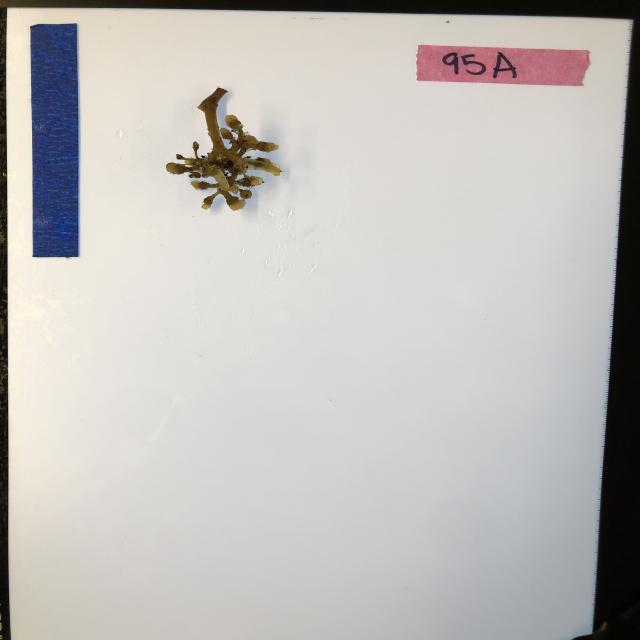index: (415, 44, 592, 88)
measure_label: (30, 22, 80, 258)
rachis_cluster: (164, 84, 283, 212)
